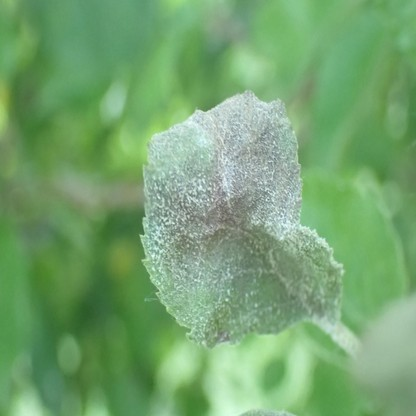powder: (140, 90, 344, 345)
